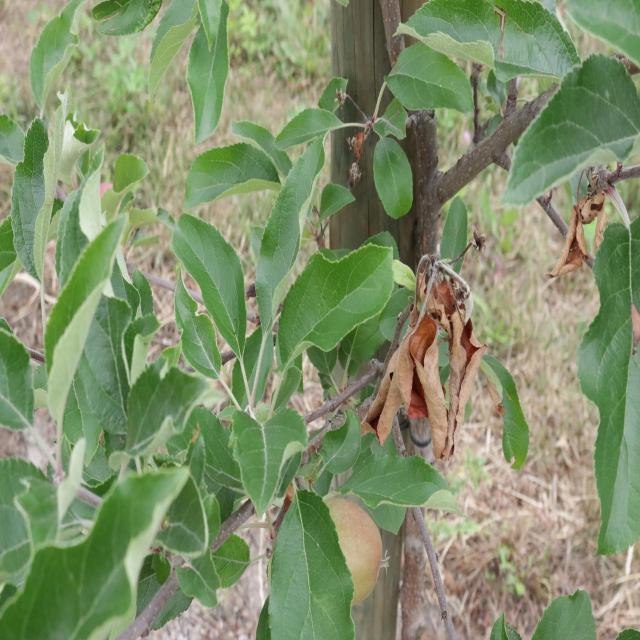-FireBlight-: (370, 244, 490, 466), (548, 147, 608, 286)
